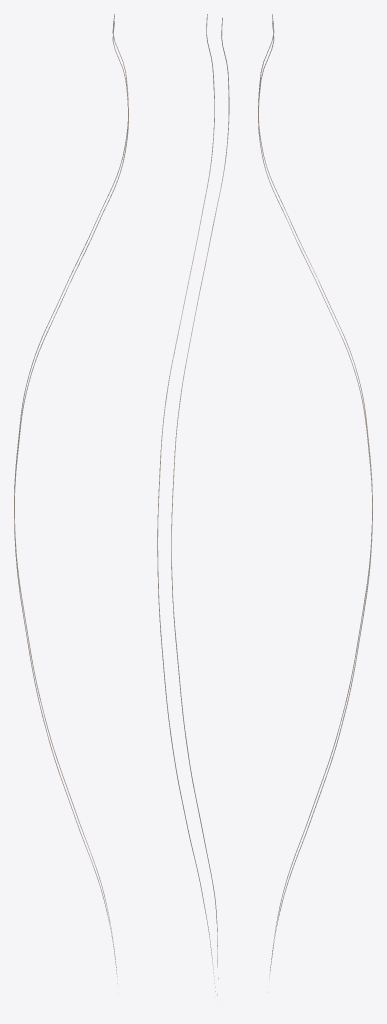
File: nervoso-lateral-reticulospinal-tract.glb
3 views of the same model, side by side, from view 1: azimuth 90°, elevation 25°; view 2: azimuth 150°, elevation 25°; view 3: azimuth 270°, elevation 25° (orthographic).
Parts seen in each view (by area): view 1: Lateral reticulospinal tract; view 2: Lateral reticulospinal tract; view 3: Lateral reticulospinal tract.
Part boxes in pixels (x1,y1,x2,y2): Lateral reticulospinal tract: (14, 14, 128, 983); Lateral reticulospinal tract: (157, 14, 229, 995); Lateral reticulospinal tract: (258, 14, 372, 992).
Bounding box in the file's own units: 0.00809 × 0.4842 × 0.0508.
